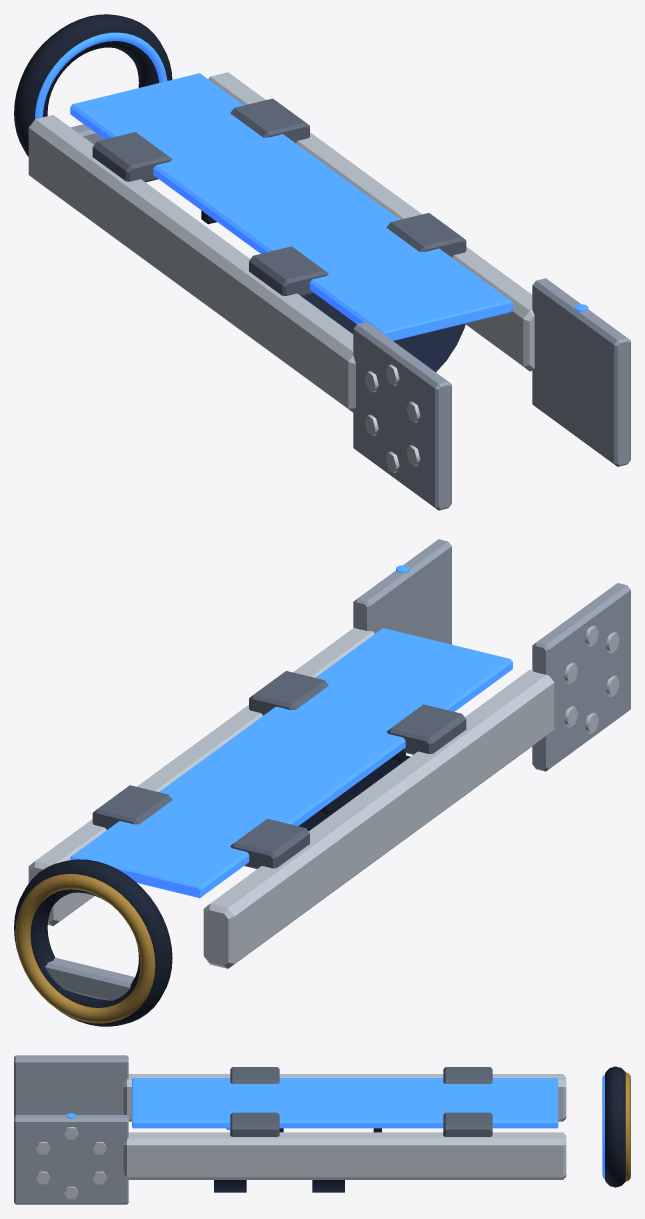
Rendered from tower_lance_damage_s6.glb.
The picture shows the model from 3 angles, top to bottom: view 1: azimuth 30°, elevation 25°; view 2: azimuth 150°, elevation 25°; view 3: azimuth 270°, elevation 25°; orthographic projection. The views are drawn at different scales.
Visible parts, largest first — view 1: lance_accelerator_b, lance_heavy_rail_r, lance_breech_cheek_l, lance_breech_cheek_r, lance_heavy_rail_l, lance_coil4, lance_heavy_rail_brace2_r, lance_heavy_rail_brace_r, lance_heavy_rail_brace2_l, lance_heavy_rail_brace_l, lance_coil_cap0, lance_coil4_glow (+1 smaller); view 2: lance_accelerator_b, lance_heavy_rail_r, lance_breech_cheek_r, lance_coil4, lance_breech_cheek_l, lance_coil_winding4, lance_heavy_rail_l, lance_heavy_rail_brace2_r, lance_heavy_rail_brace_r, lance_insulator4, lance_heavy_rail_brace2_l, lance_heavy_rail_brace_l (+2 smaller); view 3: lance_heavy_rail_l, lance_accelerator_b, lance_breech_cheek_l, lance_breech_cheek_r, lance_coil4, lance_heavy_rail_r, lance_heavy_rail_brace_l, lance_heavy_rail_brace2_l, lance_cheek_bolts_r, lance_heavy_rail_brace_r, lance_heavy_rail_brace2_r, lance_coil_winding4 (+3 smaller).
Boxes of the visible parts, left/top/right/bottom form: lance_accelerator_b: left=70, top=73, right=512, bottom=340; lance_heavy_rail_r: left=28, top=115, right=355, bottom=412; lance_breech_cheek_l: left=532, top=278, right=630, bottom=466; lance_breech_cheek_r: left=353, top=322, right=451, bottom=510; lance_heavy_rail_l: left=208, top=72, right=534, bottom=371; lance_coil4: left=14, top=14, right=172, bottom=156; lance_heavy_rail_brace2_r: left=92, top=132, right=172, bottom=182; lance_heavy_rail_brace_r: left=249, top=246, right=328, bottom=296; lance_heavy_rail_brace2_l: left=230, top=98, right=309, bottom=143; lance_heavy_rail_brace_l: left=386, top=213, right=466, bottom=257; lance_coil_cap0: left=341, top=322, right=465, bottom=371; lance_coil4_glow: left=34, top=32, right=167, bottom=119; lance_accelerator_b: left=70, top=628, right=512, bottom=898; lance_heavy_rail_r: left=203, top=669, right=554, bottom=968; lance_breech_cheek_r: left=532, top=583, right=630, bottom=771; lance_coil4: left=14, top=859, right=172, bottom=1026; lance_breech_cheek_l: left=353, top=539, right=451, bottom=644; lance_coil_winding4: left=15, top=874, right=155, bottom=1023; lance_heavy_rail_l: left=28, top=628, right=374, bottom=925; lance_heavy_rail_brace2_r: left=230, top=818, right=309, bottom=868; lance_heavy_rail_brace_r: left=386, top=704, right=466, bottom=754; lance_insulator4: left=45, top=957, right=134, bottom=1000; lance_heavy_rail_brace2_l: left=92, top=785, right=172, bottom=829; lance_heavy_rail_brace_l: left=249, top=671, right=328, bottom=715; lance_heavy_rail_l: left=123, top=1132, right=566, bottom=1179; lance_accelerator_b: left=132, top=1078, right=558, bottom=1128; lance_breech_cheek_l: left=14, top=1115, right=128, bottom=1204; lance_breech_cheek_r: left=14, top=1055, right=128, bottom=1116; lance_coil4: left=605, top=1066, right=625, bottom=1187; lance_heavy_rail_r: left=123, top=1074, right=566, bottom=1121; lance_heavy_rail_brace_l: left=230, top=1112, right=279, bottom=1136; lance_heavy_rail_brace2_l: left=443, top=1112, right=492, bottom=1136; lance_cheek_bolts_r: left=35, top=1127, right=106, bottom=1199; lance_heavy_rail_brace_r: left=230, top=1067, right=279, bottom=1083; lance_heavy_rail_brace2_r: left=443, top=1067, right=492, bottom=1083; lance_coil_winding4: left=625, top=1072, right=630, bottom=1181.
Bounding box in the file's own units: 0.9896 × 0.77 × 3.76.
